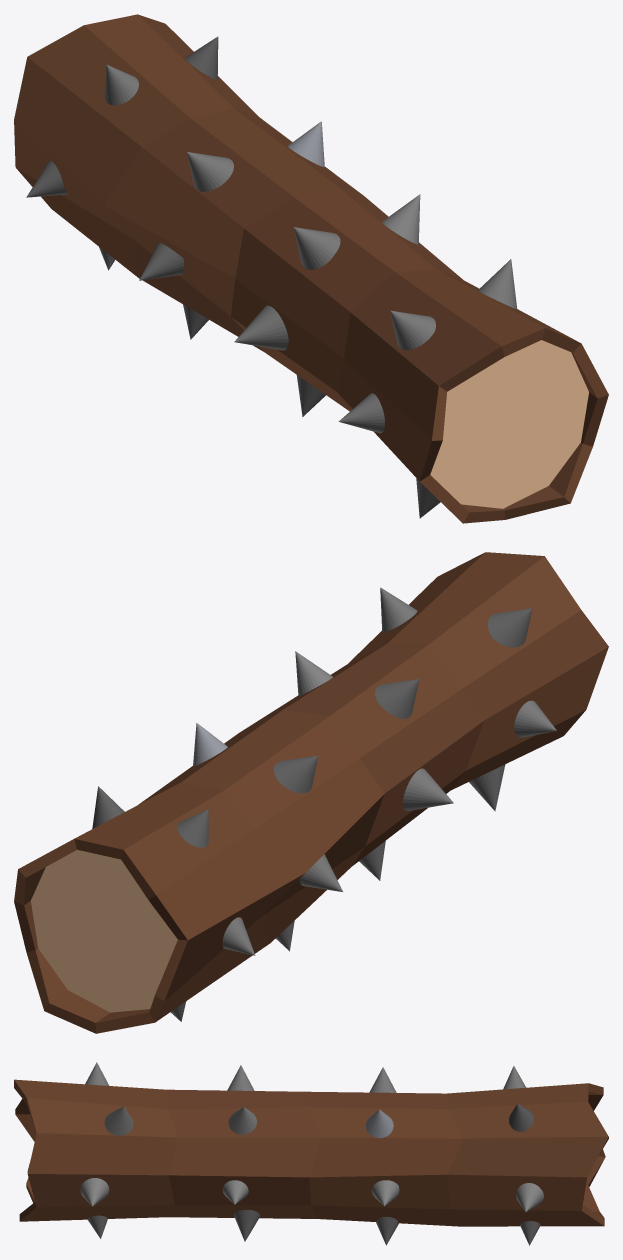
Rendered from dikentomruk.fbx.
3 views of the same model, one above another, from view 1: azimuth 30°, elevation 25°; view 2: azimuth 150°, elevation 25°; view 3: azimuth 270°, elevation 25° (orthographic). The views are drawn at different scales.
Visible parts, largest first — view 1: Cylinder, Cone.004, Cone.008, Cone.006, Cone.007; view 2: Cylinder, Cone.004, Cone.008, Cone.006, Cone.007; view 3: Cylinder, Cone.004, Cone.005, Cone.002, Cone.008, Cone.006, Cone.001, Cone.007, Cone.003.
Boxes of the visible parts, x1,y1,x2,y2 form: Cylinder: (14, 14, 608, 523); Cone.004: (26, 64, 517, 518); Cone.008: (382, 194, 420, 244); Cone.006: (288, 121, 324, 167); Cone.007: (185, 36, 218, 79); Cylinder: (14, 552, 608, 1033); Cone.004: (170, 587, 556, 1021); Cone.008: (295, 651, 332, 696); Cone.006: (193, 723, 227, 766); Cone.007: (92, 786, 124, 828); Cylinder: (14, 1079, 608, 1226); Cone.004: (85, 1062, 540, 1245); Cone.005: (80, 1178, 109, 1206); Cone.002: (516, 1183, 543, 1211); Cone.008: (228, 1107, 256, 1134); Cone.006: (366, 1109, 393, 1138); Cone.001: (371, 1180, 399, 1206); Cone.007: (509, 1104, 533, 1131); Cone.003: (222, 1180, 248, 1204).
Bounding box in the file's own units: 145 × 129 × 455.
